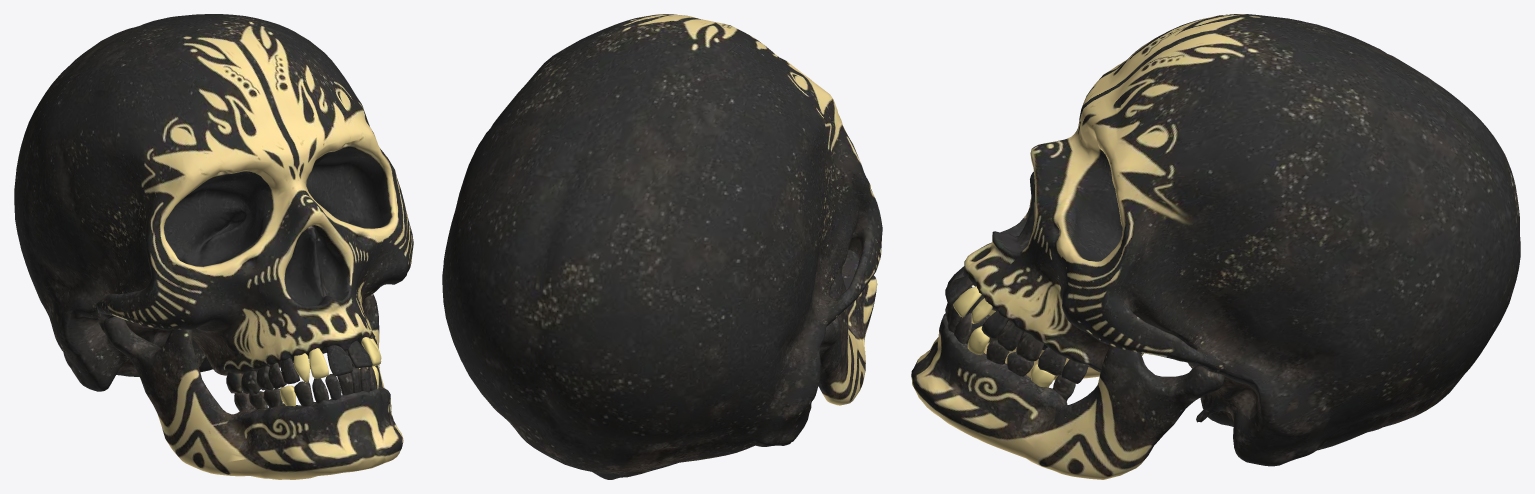
The picture shows the model from 3 angles, left to right: view 1: azimuth 30°, elevation 25°; view 2: azimuth 150°, elevation 25°; view 3: azimuth 270°, elevation 25°; orthographic projection. The views are drawn at different scales.
Parts seen in each view (by area): view 1: defaultMaterial (×2); view 2: defaultMaterial; view 3: defaultMaterial (×2).
Boxes of the visible parts, x1,y1,x2,y2 form: defaultMaterial (×2): (14, 14, 413, 479); defaultMaterial: (442, 14, 882, 479); defaultMaterial (×2): (911, 14, 1520, 479).
Size of the model in its own units: 1.22 by 1.46 by 2.
2 materials, 2 textured.
